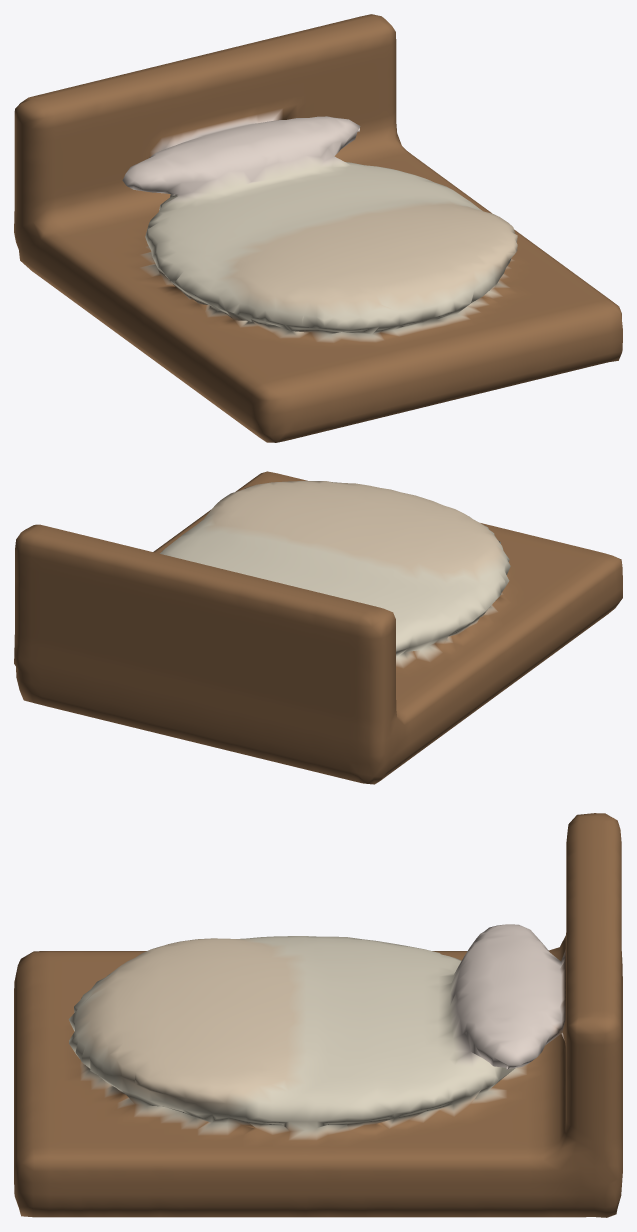
File: bed.glb
The picture shows the model from 3 angles, top to bottom: view 1: azimuth 30°, elevation 25°; view 2: azimuth 150°, elevation 25°; view 3: azimuth 270°, elevation 25°; orthographic projection. The views are drawn at different scales.
Parts seen in each view (by area): view 1: bed; view 2: bed; view 3: bed.
Part boxes in pixels (x1,y1,x2,y2): bed: (14, 14, 622, 442); bed: (14, 471, 622, 784); bed: (14, 813, 622, 1217).
Size of the model in its own units: 1.66 by 0.7299 by 1.98.
